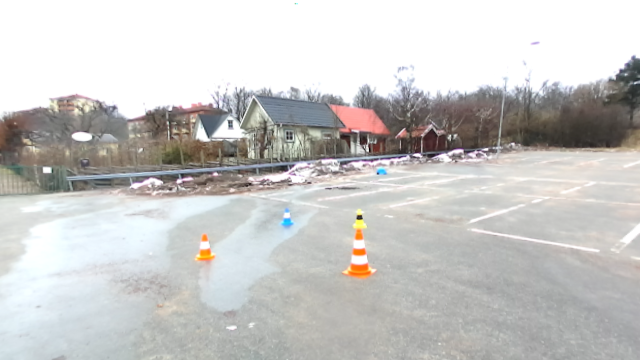blue: (278, 207, 294, 228)
orange: (194, 233, 216, 262)
orange2: (341, 228, 375, 277)
yellow: (353, 208, 367, 229)
